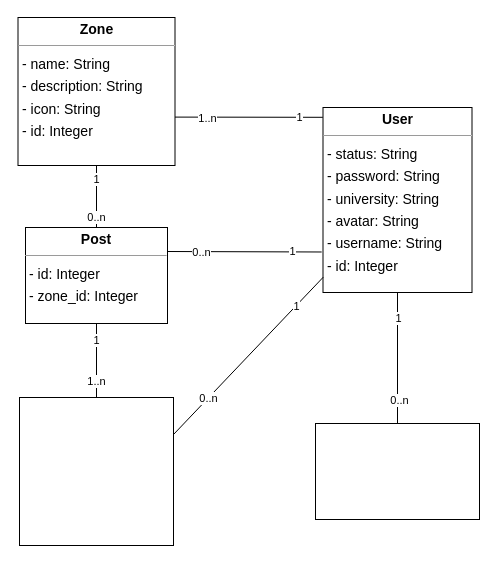
Image size: 497x563. Some labels were removed from this diagram. The centre of each missing label's shape, as x and y in pixels:
Floor - id: Integer - author_id: Integer - createTime: Date - content: String: (96,471)
Follow - followerId: Integer - followingId: Integer: (397,471)
